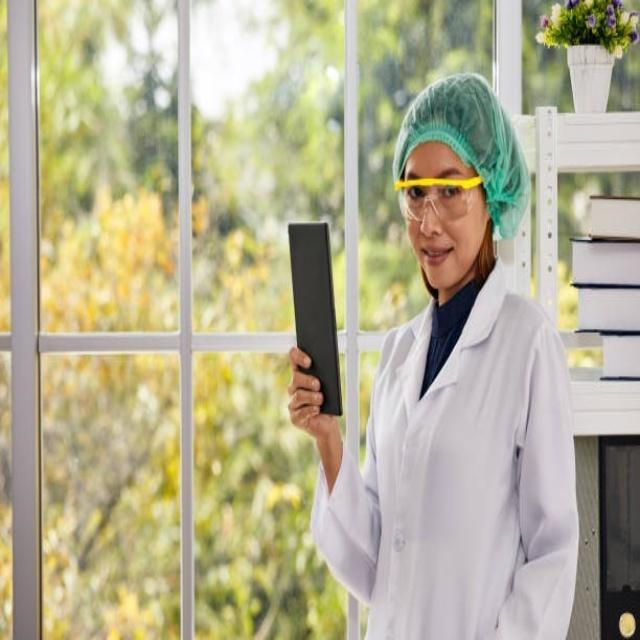Gafas: (397, 180, 482, 226)
Sin_guantes: (285, 344, 334, 438)
Sin_mascara: (415, 237, 458, 276)
